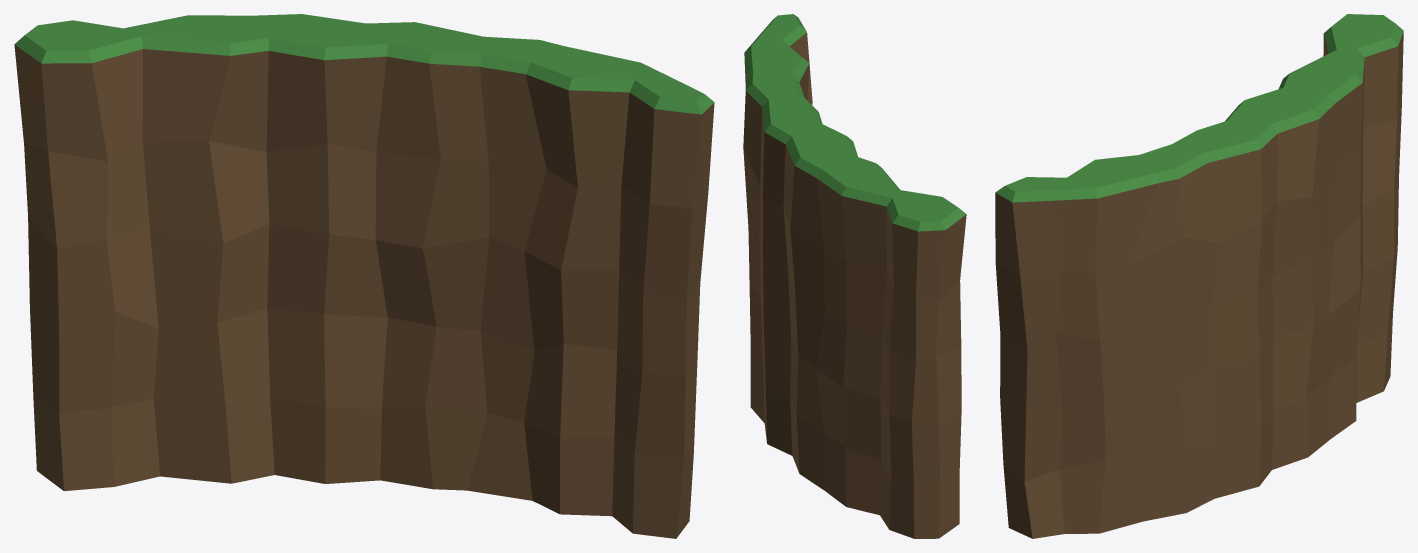
File: GardenCliff.fbx
3 renders of one model, left to right at view 1: azimuth 30°, elevation 25°; view 2: azimuth 150°, elevation 25°; view 3: azimuth 270°, elevation 25°, orthographic. The views are drawn at different scales.
Parts seen in each view (by area): view 1: Morro; view 2: Morro; view 3: Morro.
Boxes of the visible parts, x1,y1,x2,y2 form: Morro: [14, 14, 714, 538]; Morro: [743, 14, 966, 538]; Morro: [995, 14, 1403, 538].
Bounding box in the file's own units: 900 × 802 × 848.
